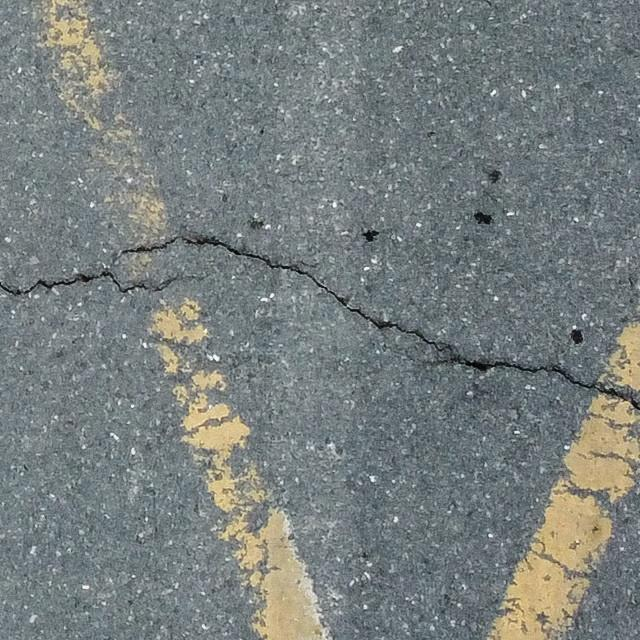TransverseCrack: (112, 231, 640, 410), (1, 274, 180, 298)
